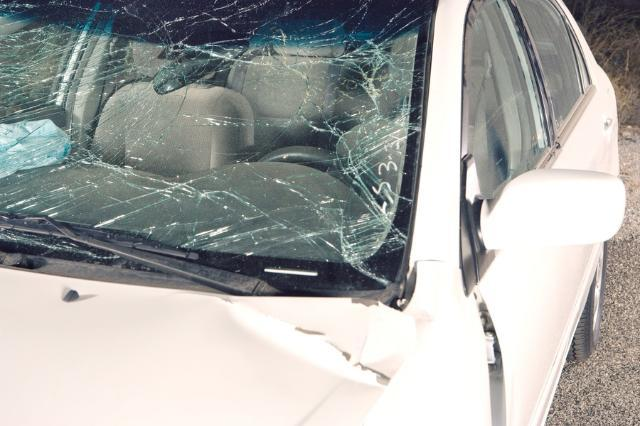Bonnet: (202, 279, 393, 393)
Fender: (390, 275, 478, 425)
Windshield: (0, 0, 393, 271)
